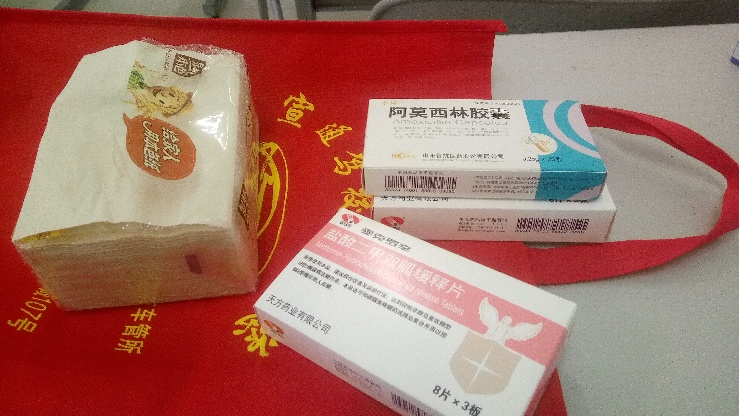pillbox: (258, 211, 578, 416), (363, 96, 603, 201), (374, 196, 612, 243)
